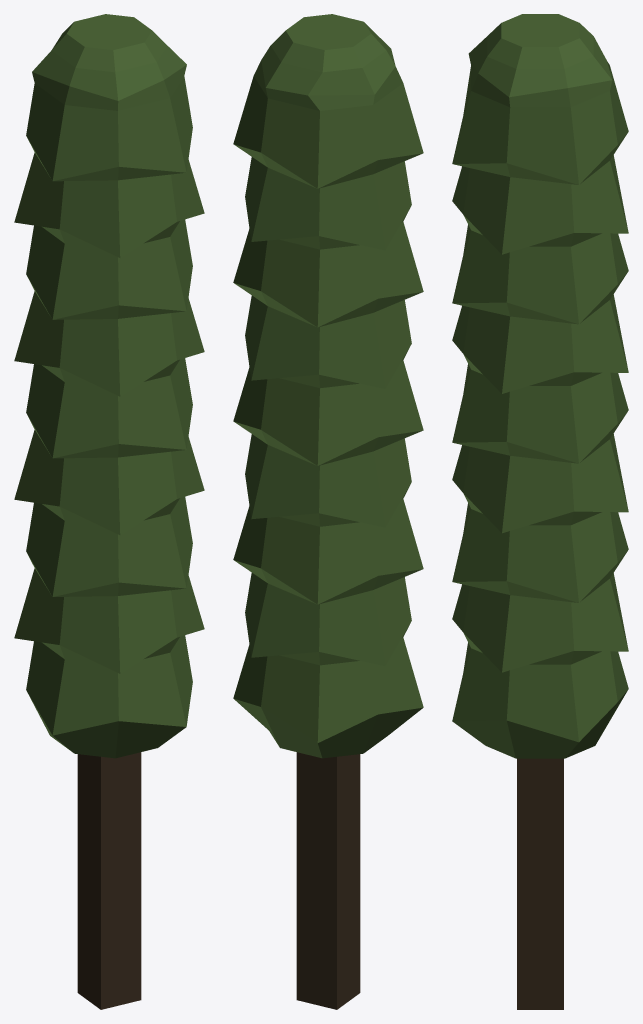
The model's file is SM_small_tree_02.glb.
The picture shows the model from 3 angles, left to right: view 1: azimuth 30°, elevation 25°; view 2: azimuth 150°, elevation 25°; view 3: azimuth 270°, elevation 25°; orthographic projection.
Visible parts, largest first — view 1: SM_small_tree_02; view 2: SM_small_tree_02; view 3: SM_small_tree_02.
Part boxes in pixels (x1,y1,x2,y2): SM_small_tree_02: [14, 14, 204, 1009]; SM_small_tree_02: [233, 14, 423, 1009]; SM_small_tree_02: [452, 14, 628, 1009].
Bounding box in the file's own units: 0.4647 × 2.81 × 0.4647.
Materials: 1 (1 with a texture image).
